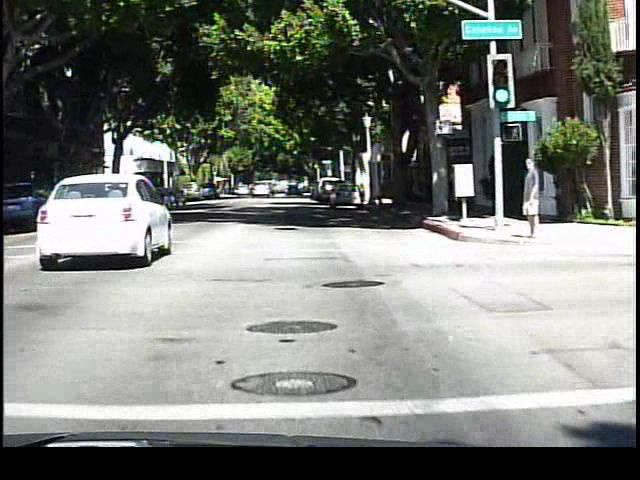person: (515, 151, 545, 244)
